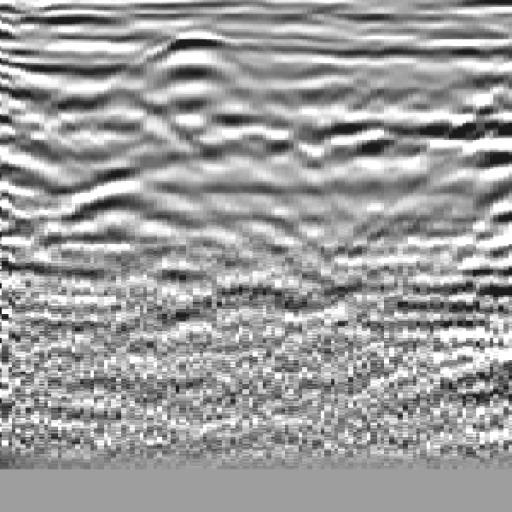metalic: (38, 47, 177, 282)
non-metallic: (127, 21, 301, 239)
nonmetalic: (359, 39, 512, 293)
